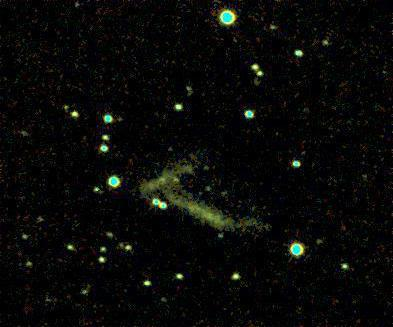star: (61, 0, 91, 21)
